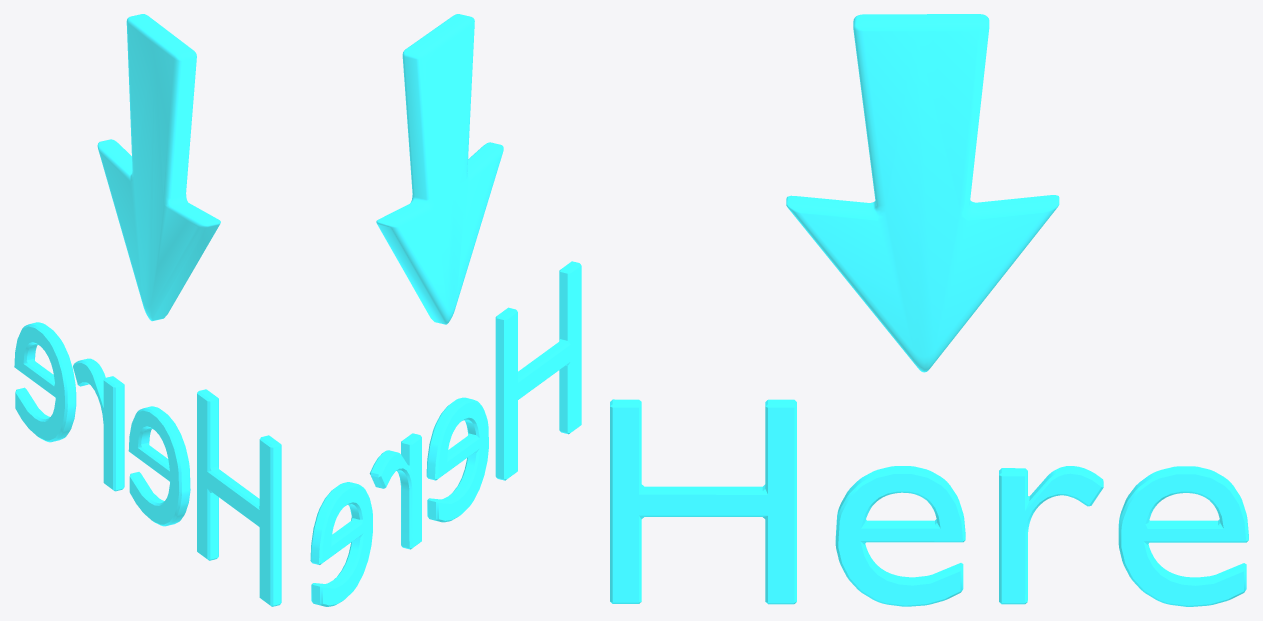
3 views of the same model, side by side, from view 1: azimuth 30°, elevation 25°; view 2: azimuth 150°, elevation 25°; view 3: azimuth 270°, elevation 25° (orthographic). The views are drawn at different scales.
Parts seen in each view (by area): view 1: Here_Text, Arrow; view 2: Here_Text, Arrow; view 3: Arrow, Here_Text.
Boxes of the visible parts, x1,y1,x2,y2 form: Here_Text: (14,322,281,606); Arrow: (97,14,220,321); Here_Text: (310,261,581,606); Arrow: (376,14,503,324); Arrow: (786,14,1059,372); Here_Text: (610,399,1248,606).
Size of the model in its own units: 0.365 by 6.07 by 5.92.
